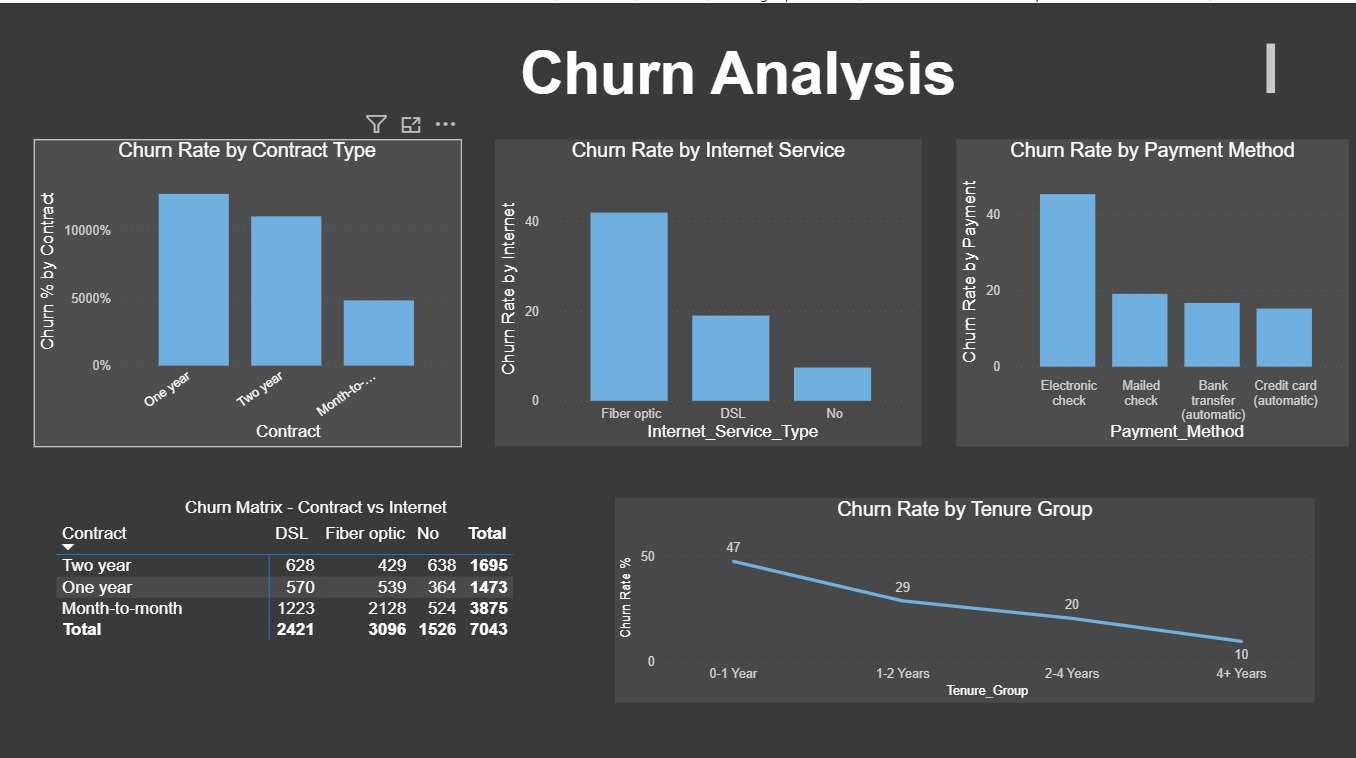

This screenshot's page, from the dashboard's own definition file:
{"tool":"powerbi","page":{"name":"Churn Analysis","canvas":[1280,720],"ordinal":1},"visuals":[{"type":"clusteredColumnChart","title":"Churn Rate by Contract Type","fields":{"Category":["telco_churn.Contract"],"Y":["telco_churn.Churn % by Contract"]},"box":[32,128,400,288],"z":0},{"type":"clusteredColumnChart","title":"Churn Rate by Internet Service","fields":{"Category":["telco_churn.Internet_Service_Type"],"Y":["telco_churn.Churn Rate by Internet"]},"box":[464,128,400,288],"z":1000},{"type":"clusteredColumnChart","title":"Churn Rate by Payment Method","fields":{"Category":["telco_churn.Payment_Method"],"Y":["telco_churn.Churn Rate by Payment"]},"box":[896,128,368,288],"z":2000},{"type":"pivotTable","title":"Churn Matrix - Contract vs Internet","fields":{"Rows":["telco_churn.Contract"],"Columns":["telco_churn.Internet_Service_Type"],"Values":["telco_churn.Total Customers"]},"box":[48,464,496,176],"z":3000},{"type":"lineChart","title":"Churn Rate by Tenure Group","fields":{"Category":["telco_churn.Tenure_Group"],"Y":["telco_churn.Churn Rate %"]},"box":[576,464,656,192],"z":4000},{"type":"textbox","box":[192,32,1008,64],"z":5000}]}

Visuals, with their boxes in screenshot pixels (x1, y1, x2, y2), scaled from the page's 1280x720 canvas onto the 1356x758 screenshot:
"Churn Rate by Contract Type" clusteredColumnChart: Rect(34, 135, 458, 438)
"Churn Rate by Internet Service" clusteredColumnChart: Rect(492, 135, 915, 438)
"Churn Rate by Payment Method" clusteredColumnChart: Rect(949, 135, 1339, 438)
"Churn Matrix - Contract vs Internet" pivotTable: Rect(51, 488, 576, 674)
"Churn Rate by Tenure Group" lineChart: Rect(610, 488, 1305, 691)
textbox: Rect(203, 34, 1271, 101)
